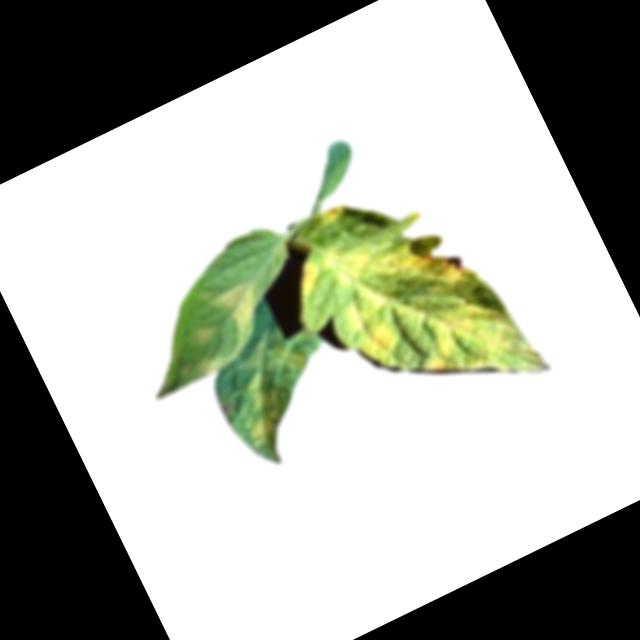Leaf_Mold: (270, 150, 552, 453), (208, 322, 339, 463), (212, 276, 275, 343), (185, 317, 224, 351)
